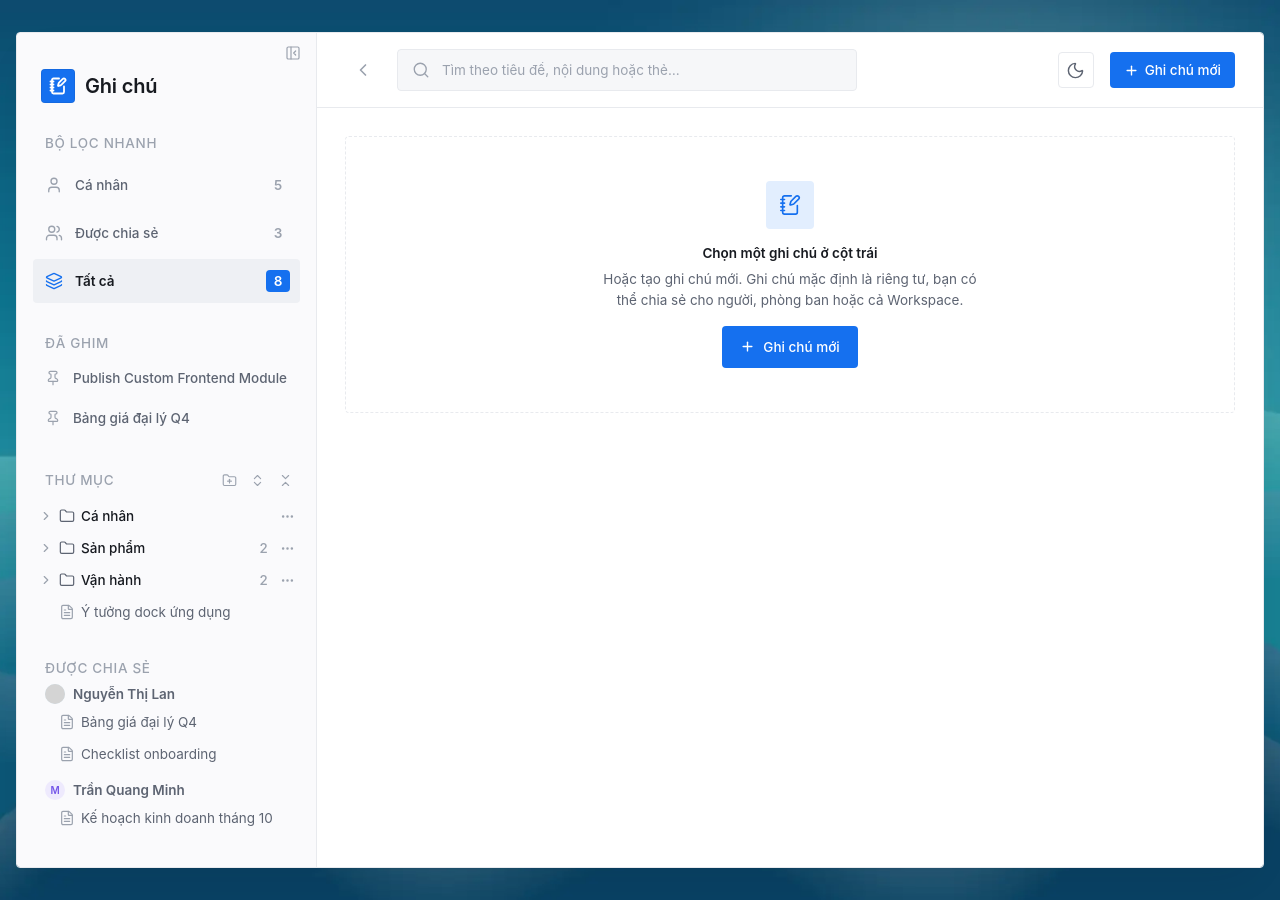
Test: NotesApp — lists › quick filter: Cá nhân hides the shared list, Được chia sẻ hides the tree; pins follow; the choice is kept
Click the button with test id "scope-mine": (102, 185) left=33, top=163, right=300, bottom=207
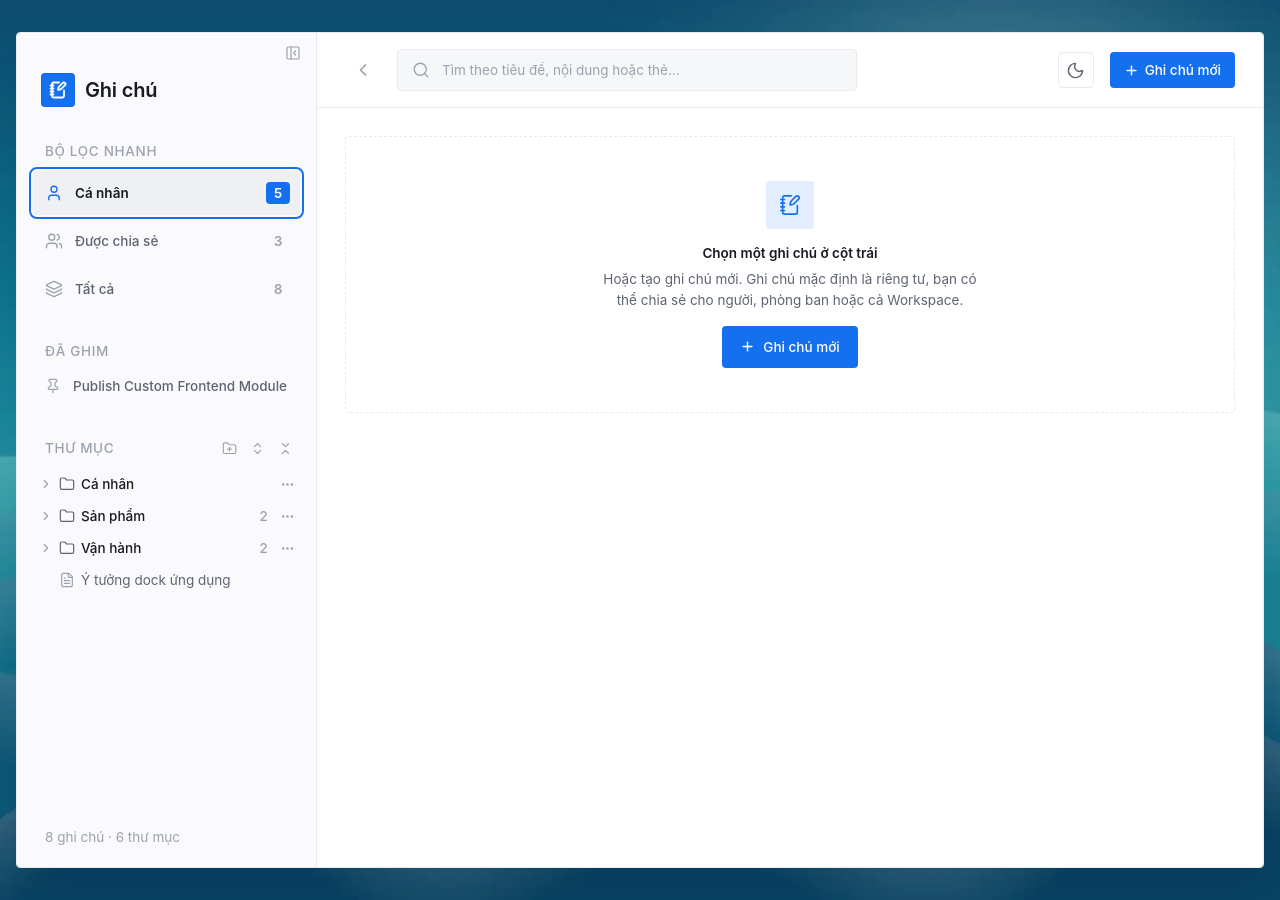
Expected: the element with test id "shared-section" is gone
Expected: the elements with test id "pinned-note" read "Publish Custom Frontend Module", in this order, left=33, top=368, right=300, bottom=406
Click the button with test id "scope-shared": (117, 241) left=33, top=219, right=300, bottom=263
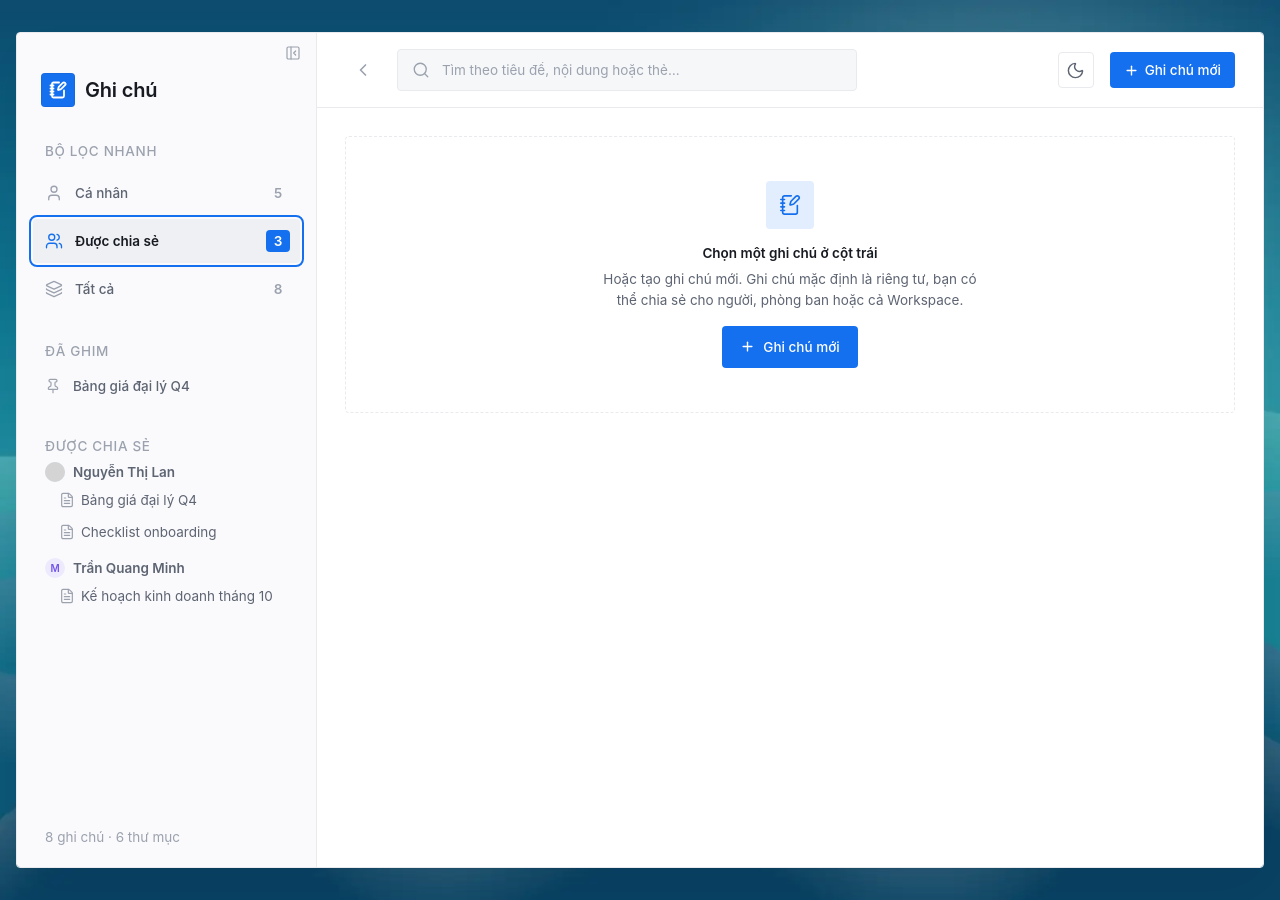
Expected: the list with test id "notes-tree" is gone
Expected: the elements with test id "pinned-note" read "Bảng giá đại lý Q4", in this order, left=33, top=368, right=300, bottom=406
